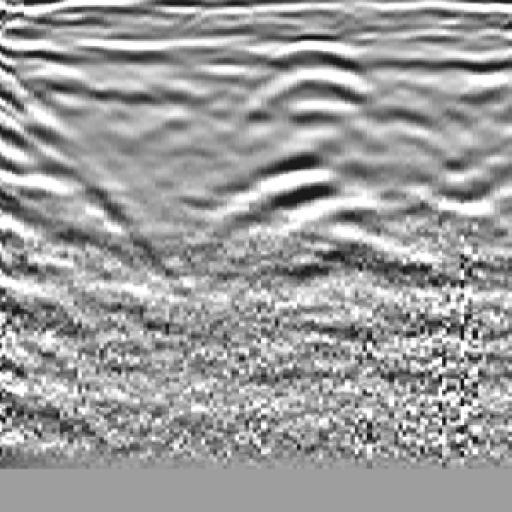metalic: (216, 33, 391, 286)
nonmetalic: (1, 44, 117, 281)
